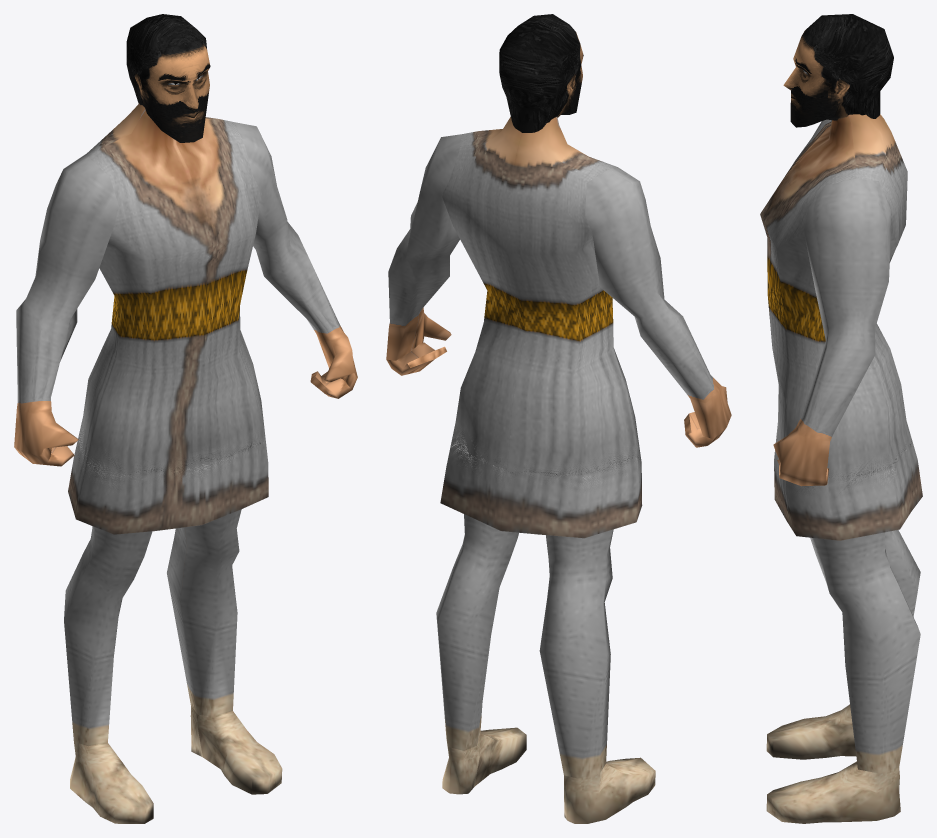
The model's file is token-archer.glb.
3 renders of one model, left to right at view 1: azimuth 30°, elevation 25°; view 2: azimuth 150°, elevation 25°; view 3: azimuth 270°, elevation 25°, orthographic.
Size of the model in its own units: 0.1897 by 0.42 by 0.0811.
Materials: 1 (1 with a texture image).
